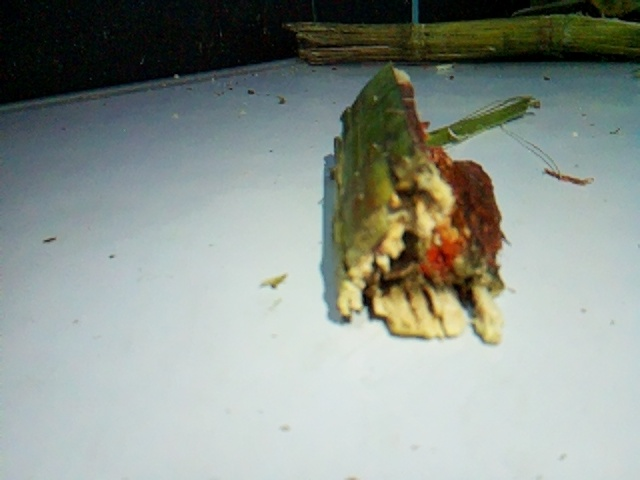Red-Rot: (320, 74, 512, 344)
